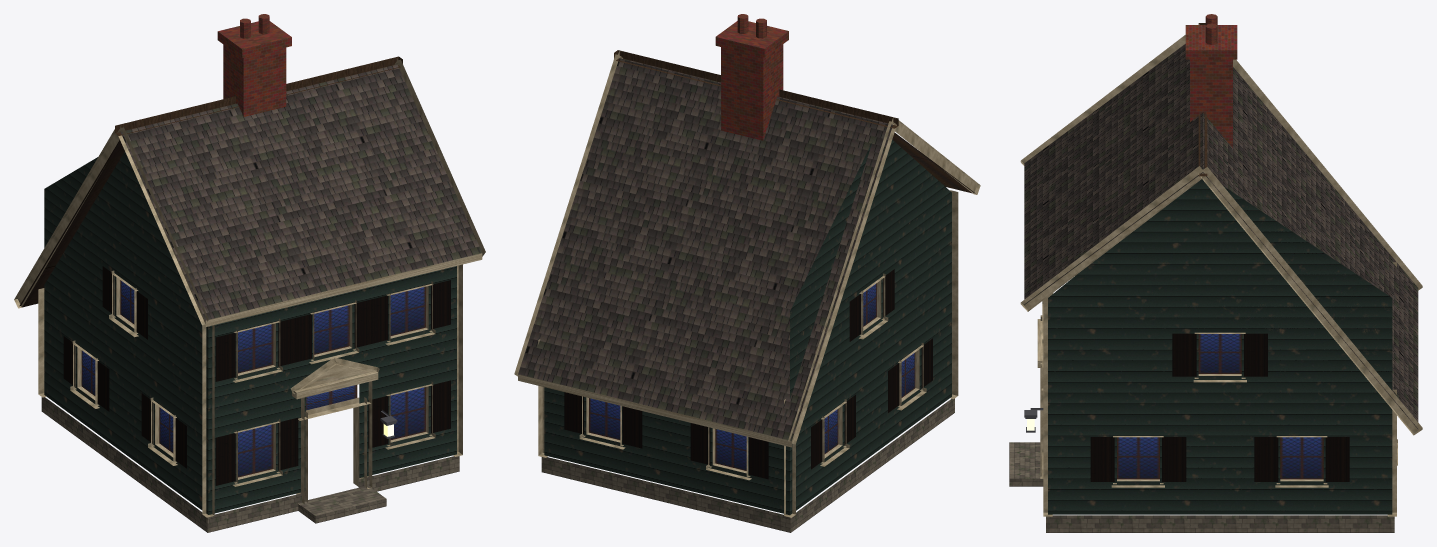
The model's file is bv_house_c_green.glb.
The picture shows the model from 3 angles, left to right: view 1: azimuth 30°, elevation 25°; view 2: azimuth 150°, elevation 25°; view 3: azimuth 270°, elevation 25°; orthographic projection. The views are drawn at different scales.
Parts seen in each view (by area): view 1: shingle, clap_green, trim, shutter, glass, stone, brick, timber, plank; view 2: shingle, clap_green, trim, stone, brick, shutter, glass, timber, plank; view 3: clap_green, shingle, trim, stone, shutter, glass, brick.
Part boxes in pixels (x1=…): shingle: x1=120, y1=64, x2=482, y2=320; clap_green: x1=44, y1=151, x2=456, y2=514; trim: x1=14, y1=58, x2=485, y2=517; shutter: x1=63, y1=266, x2=450, y2=485; glass: x1=81, y1=280, x2=425, y2=477; stone: x1=41, y1=397, x2=459, y2=532; brick: x1=217, y1=14, x2=291, y2=116; timber: x1=115, y1=56, x2=402, y2=135; plank: x1=19, y1=140, x2=124, y2=307; shingle: x1=518, y1=58, x2=892, y2=440; clap_green: x1=544, y1=140, x2=951, y2=515; trim: x1=514, y1=51, x2=980, y2=517; stone: x1=541, y1=398, x2=954, y2=532; brick: x1=715, y1=14, x2=788, y2=140; shutter: x1=564, y1=269, x2=932, y2=479; glass: x1=589, y1=283, x2=915, y2=470; timber: x1=614, y1=50, x2=898, y2=128; plank: x1=892, y1=132, x2=975, y2=193; clap_green: x1=1048, y1=179, x2=1392, y2=514; shingle: x1=1024, y1=44, x2=1418, y2=429; trim: x1=1020, y1=24, x2=1422, y2=516; stone: x1=1009, y1=442, x2=1394, y2=532; shutter: x1=1090, y1=333, x2=1349, y2=481; glass: x1=1117, y1=334, x2=1323, y2=479; brick: x1=1185, y1=14, x2=1237, y2=147.
Size of the model in its own units: 8 by 11.46 by 9.6.
Materials: 11 (9 with a texture image).
